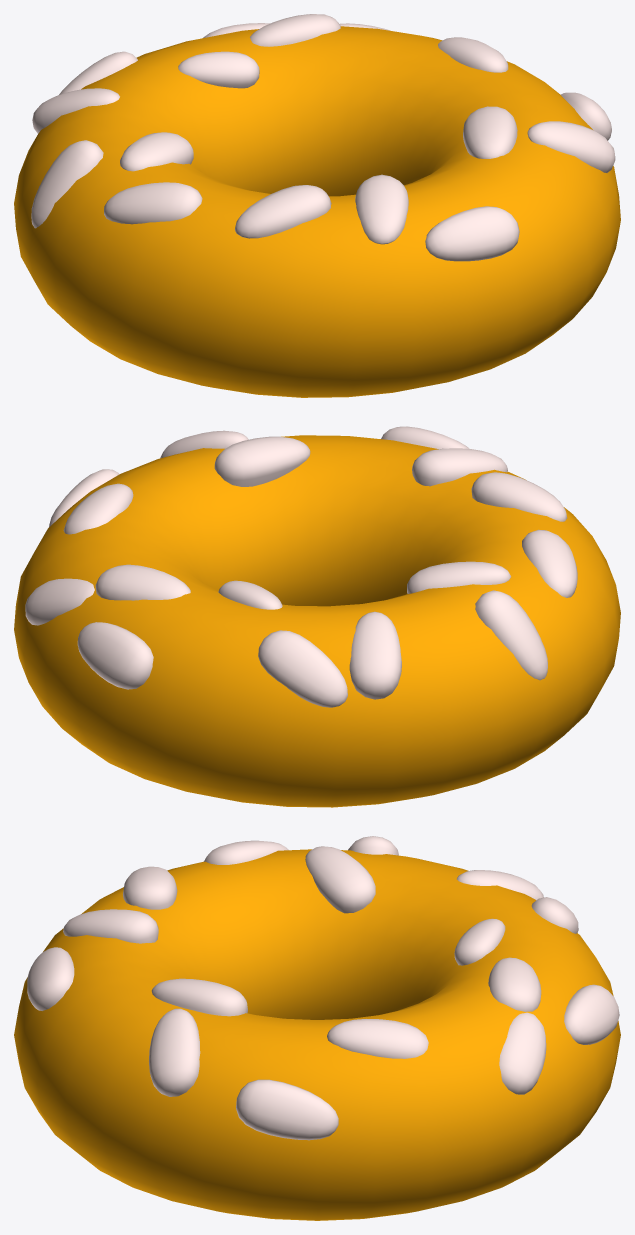
The model's file is City_15_Bagel_1.glb.
3 views of the same model, one above another, from view 1: azimuth 30°, elevation 25°; view 2: azimuth 150°, elevation 25°; view 3: azimuth 270°, elevation 25° (orthographic).
Parts seen in each view (by area): view 1: City_15_Bagel_1; view 2: City_15_Bagel_1; view 3: City_15_Bagel_1.
Part boxes in pixels (x1=…): City_15_Bagel_1: x1=14, y1=14, x2=620, y2=397; City_15_Bagel_1: x1=14, y1=426, x2=620, y2=807; City_15_Bagel_1: x1=14, y1=836, x2=620, y2=1220.
Bounding box in the file's own units: 0.3386 × 0.1217 × 0.3358.
Materials: 1 (1 with a texture image).
